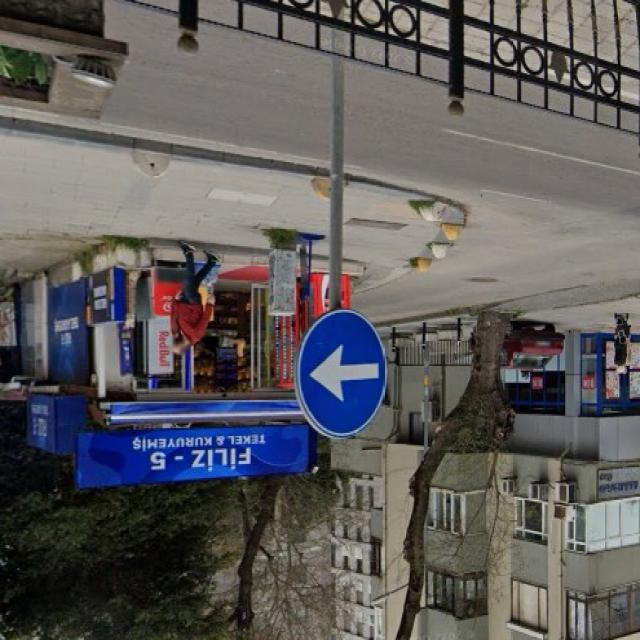Turn Left: (298, 306, 393, 442)
